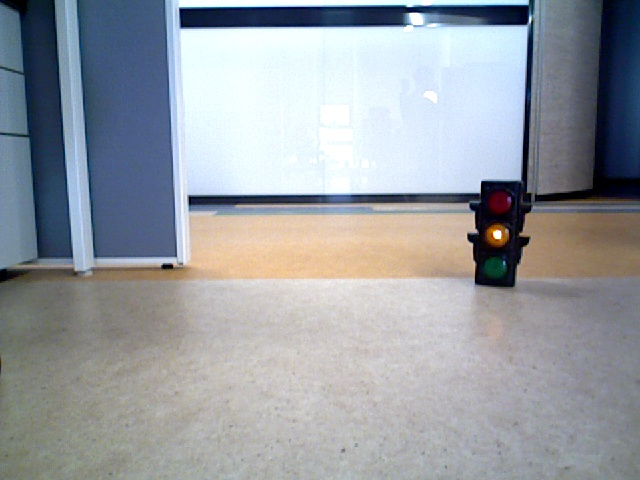yellow: (482, 183, 512, 284)
